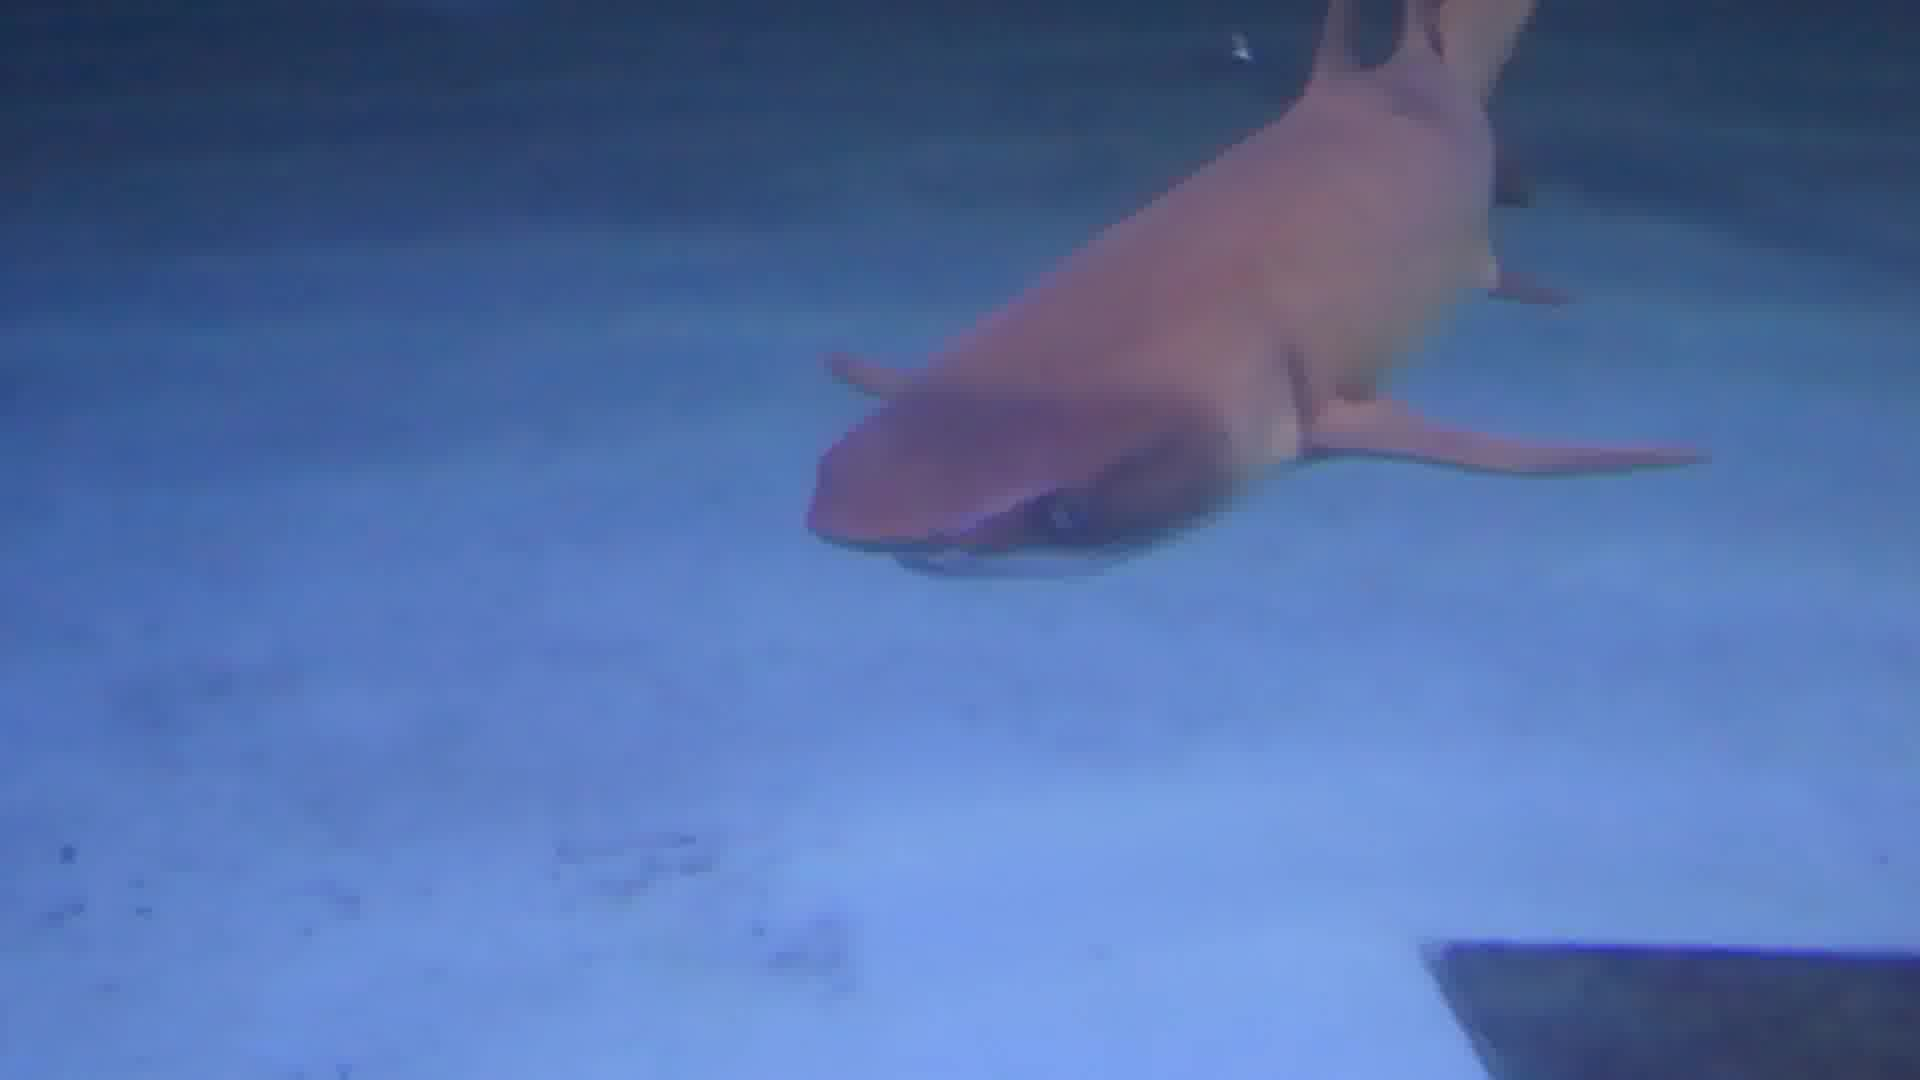Triaenodon obesus: (736, 3, 1760, 600)
